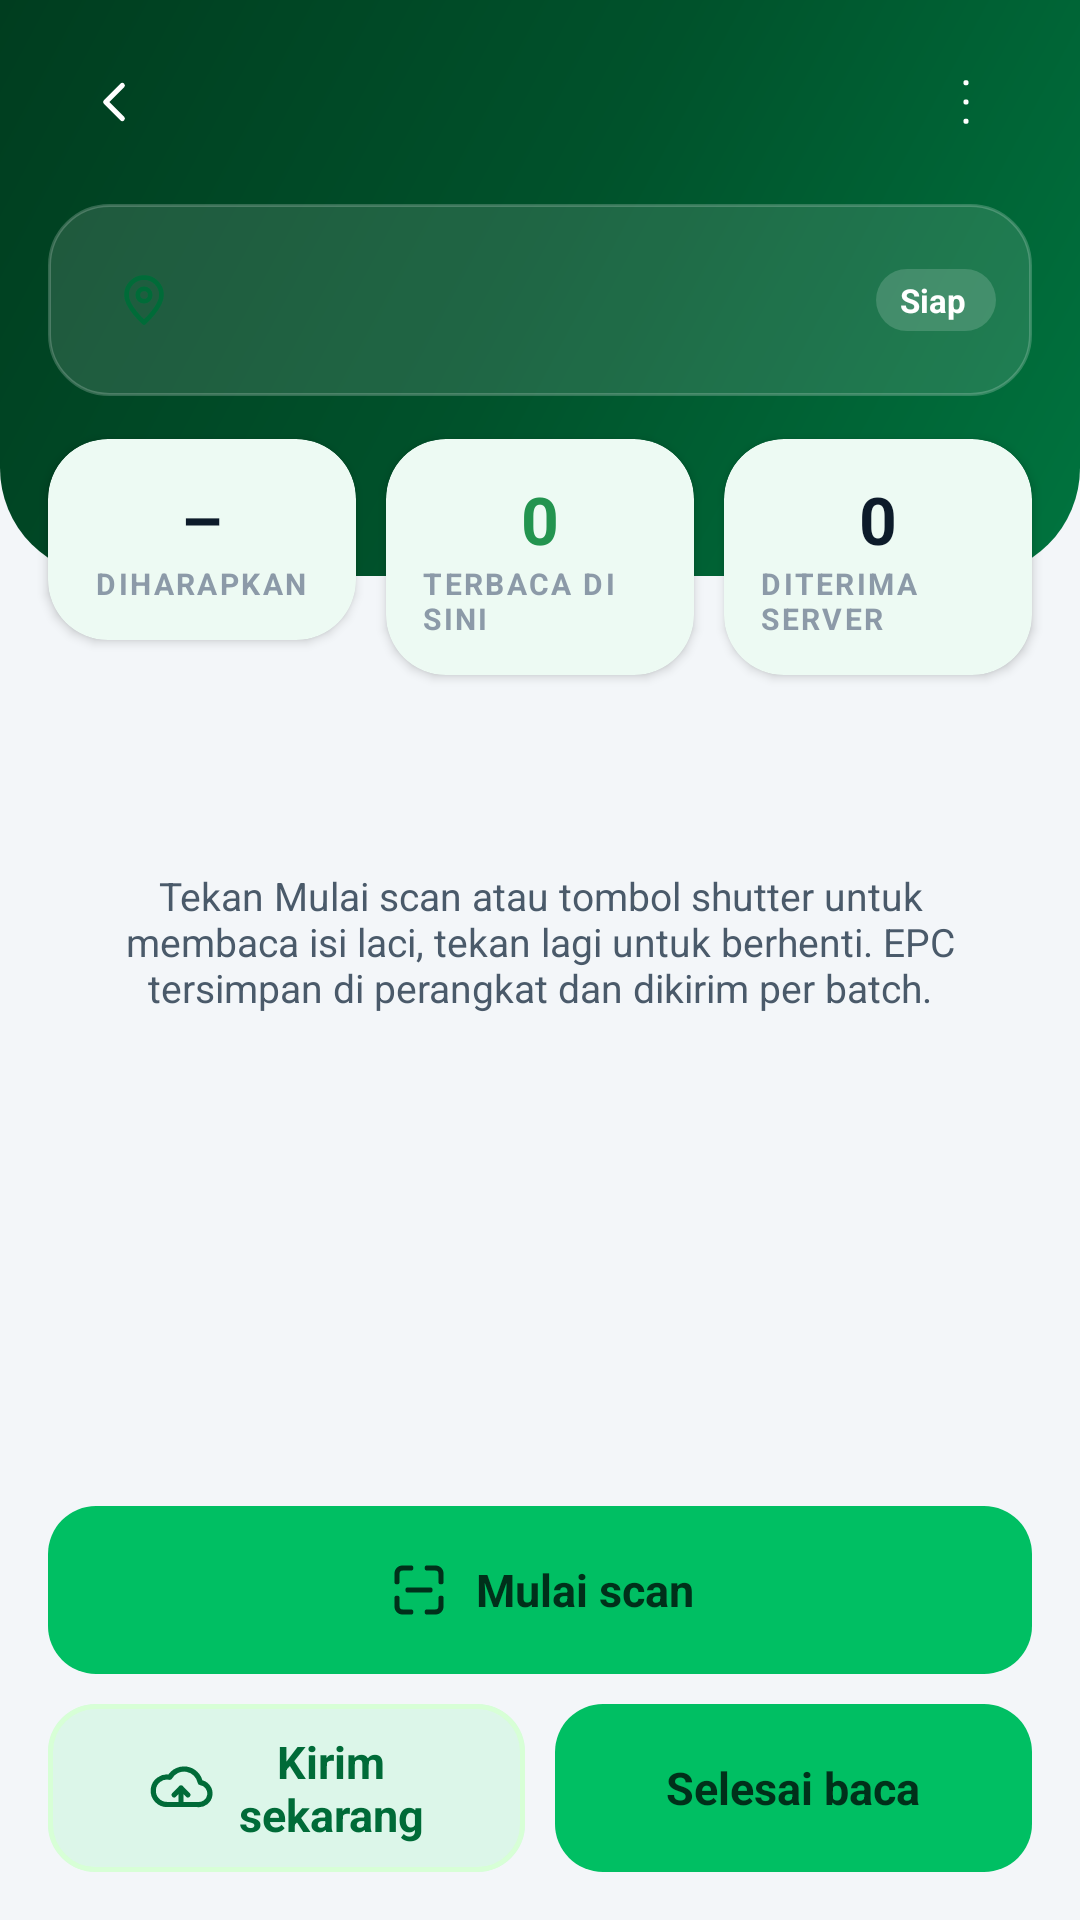

Where icons sit on this 1080w x 1920h app screen, as (left=x1, top=y1, right=x2, bottom=y2):
Kembali: (left=103, top=82, right=125, bottom=122)
pin: (left=125, top=276, right=163, bottom=325)
